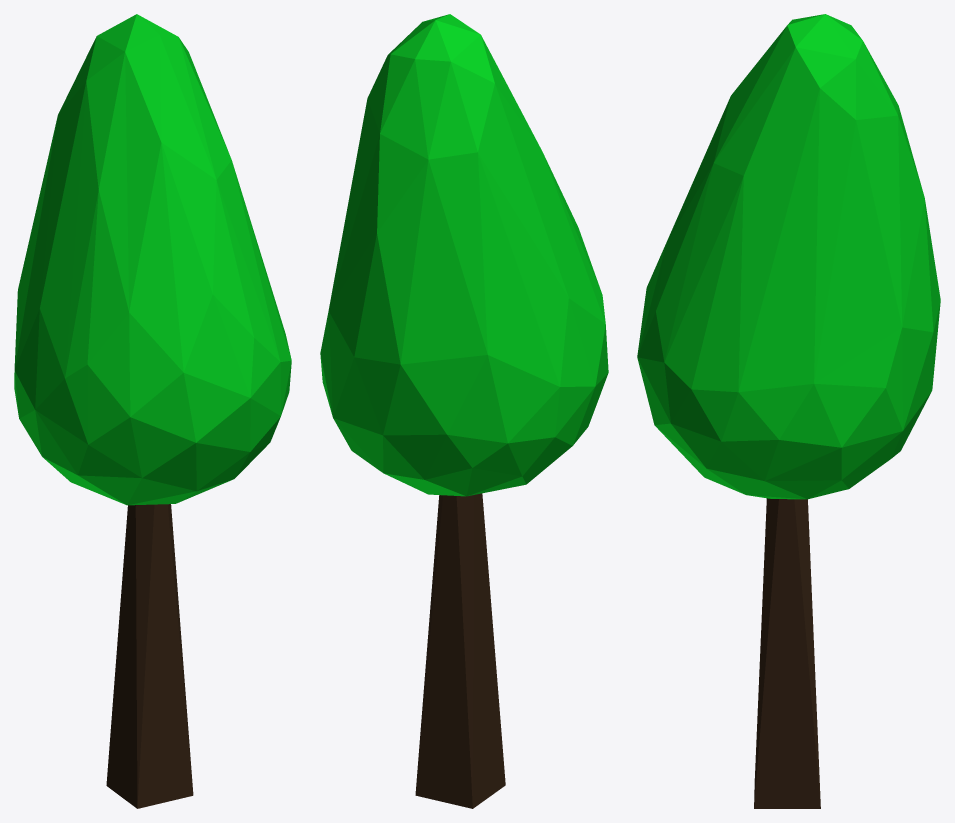
The model's file is Tree6.fbx.
3 views of the same model, side by side, from view 1: azimuth 30°, elevation 25°; view 2: azimuth 150°, elevation 25°; view 3: azimuth 270°, elevation 25° (orthographic). The views are drawn at different scales.
Visible parts, largest first — view 1: Tree6; view 2: Tree6; view 3: Tree6.
Part boxes in pixels (<box>): Tree6: <box>14,14,291,808</box>; Tree6: <box>320,14,608,808</box>; Tree6: <box>637,14,940,808</box>.
Size of the model in its own units: 4.33 by 13.05 by 4.58.
